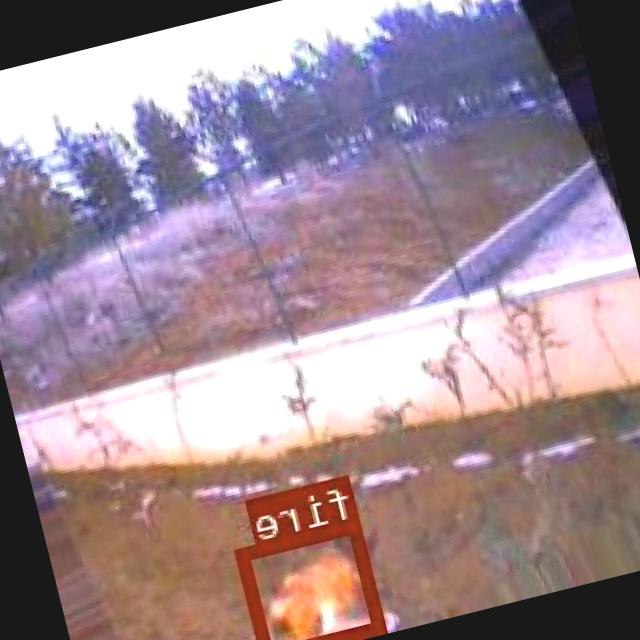fire: (238, 517, 389, 640)
